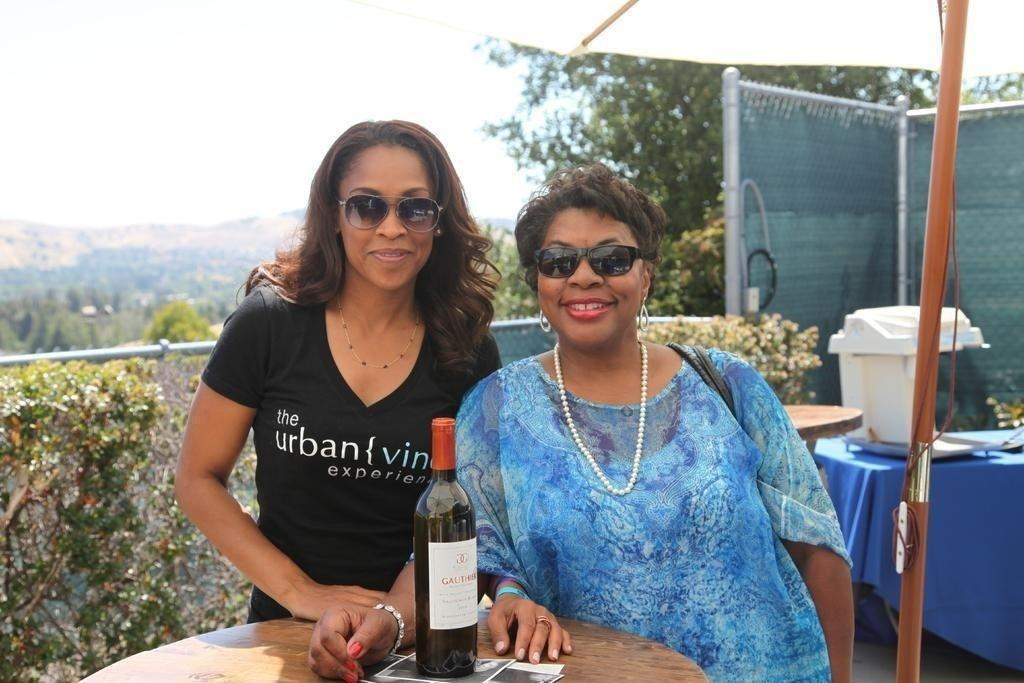bottle-glass: (409, 416, 482, 679)
